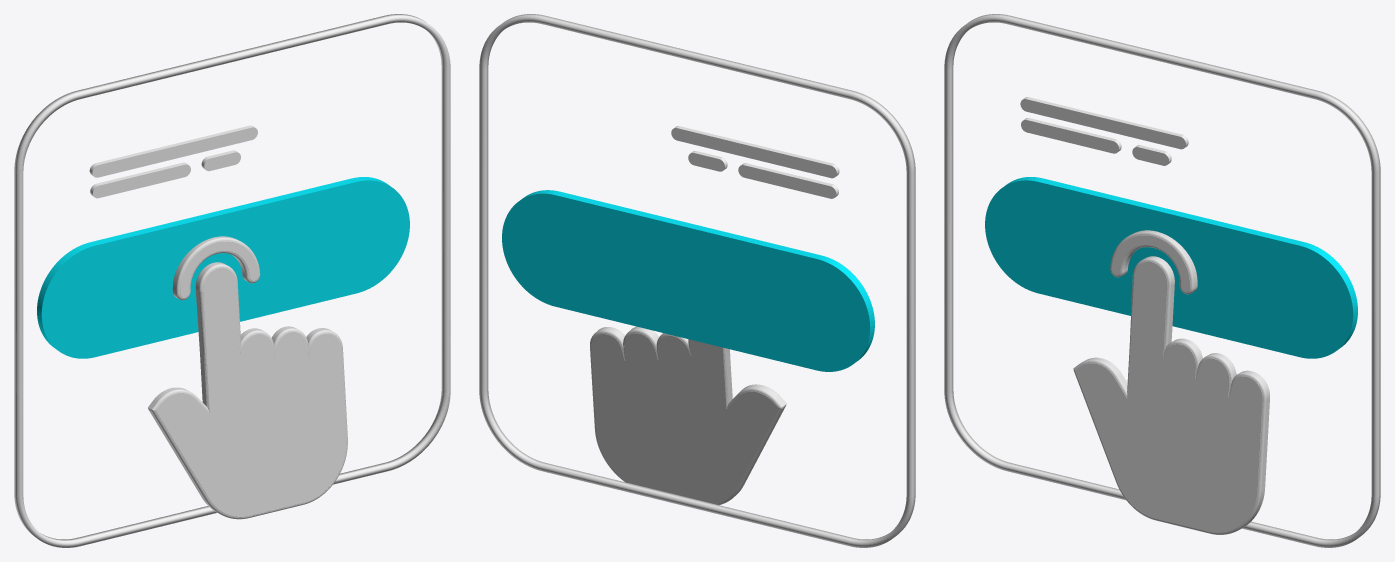
The model's file is UI-Button.fbx.
3 views of the same model, side by side, from view 1: azimuth 30°, elevation 25°; view 2: azimuth 150°, elevation 25°; view 3: azimuth 330°, elevation 25° (orthographic).
Visible parts, largest first — view 1: Plane.006Shape; view 2: Plane.006Shape; view 3: Plane.006Shape.
Part boxes in pixels (x1=…): Plane.006Shape: x1=14, y1=14, x2=450, y2=547; Plane.006Shape: x1=479, y1=14, x2=915, y2=547; Plane.006Shape: x1=944, y1=14, x2=1380, y2=547.
Size of the model in its own units: 54.17 by 54.7 by 5.14.
